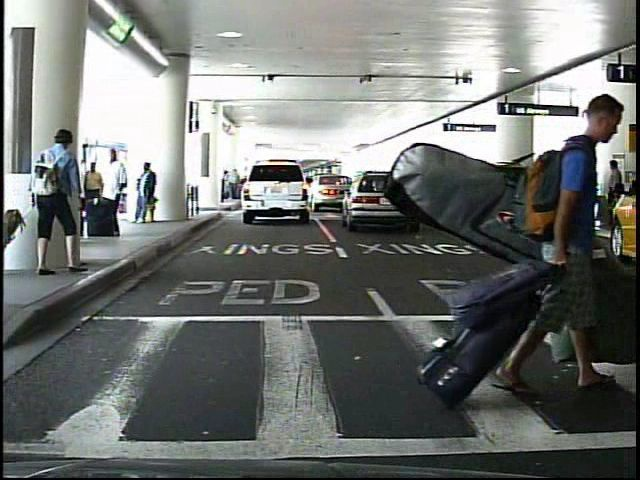person: (509, 88, 620, 393), (28, 127, 76, 276), (98, 146, 125, 239), (597, 158, 625, 226), (133, 161, 160, 227), (81, 158, 102, 233), (552, 164, 567, 213), (572, 168, 573, 212)
